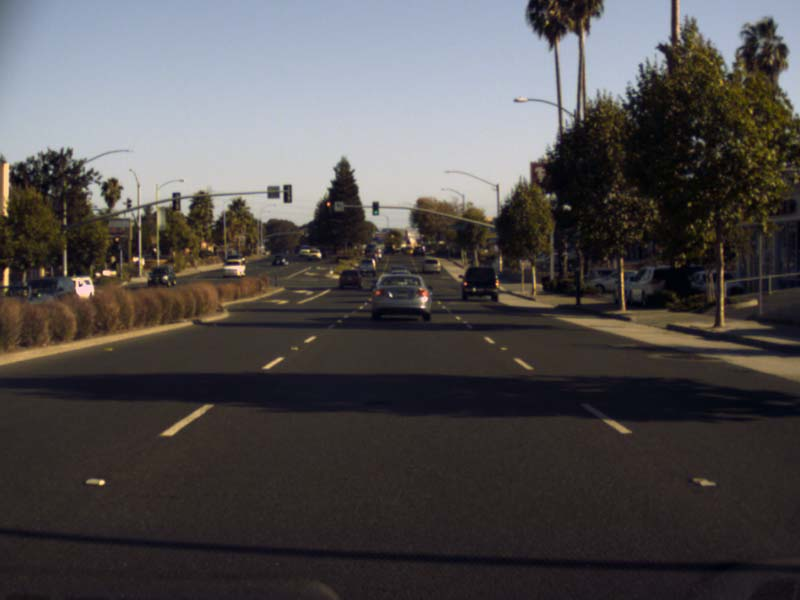Green: (371, 200, 378, 215)
Red: (325, 199, 331, 214)
